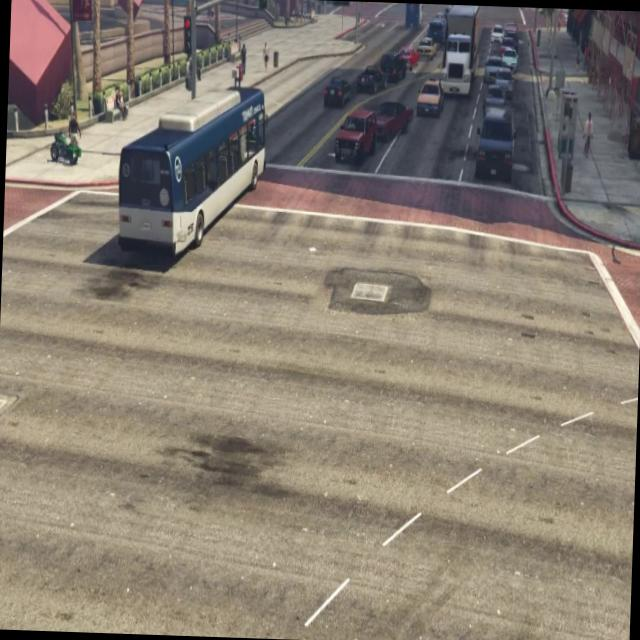Red-Signal: (180, 9, 194, 65), (254, 0, 269, 15)
